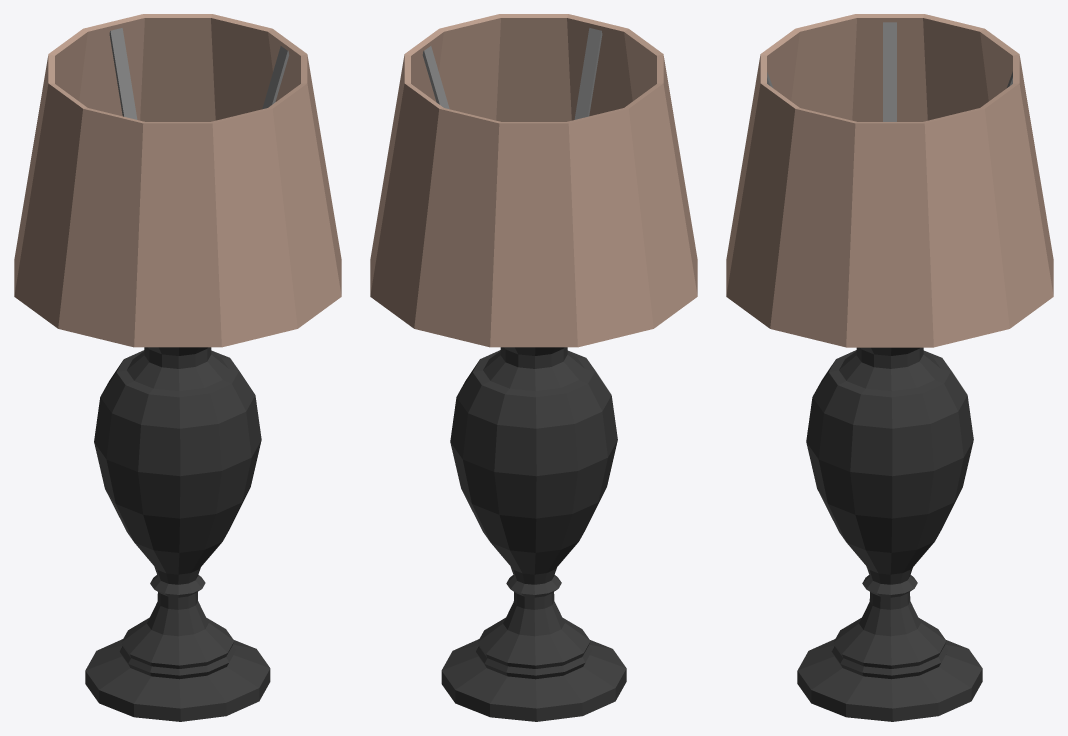
The model's file is table_lamp.glb.
3 renders of one model, left to right at view 1: azimuth 30°, elevation 25°; view 2: azimuth 150°, elevation 25°; view 3: azimuth 270°, elevation 25°, orthographic.
Visible parts, largest first — view 1: Lamp_with_shade; view 2: Lamp_with_shade; view 3: Lamp_with_shade.
Part boxes in pixels (bbox=[...]): Lamp_with_shade: bbox=[14, 14, 341, 721]; Lamp_with_shade: bbox=[370, 14, 697, 721]; Lamp_with_shade: bbox=[726, 14, 1053, 721].
Size of the model in its own units: 0.157 by 0.3249 by 0.157.
Materials: 1 (1 with a texture image).
